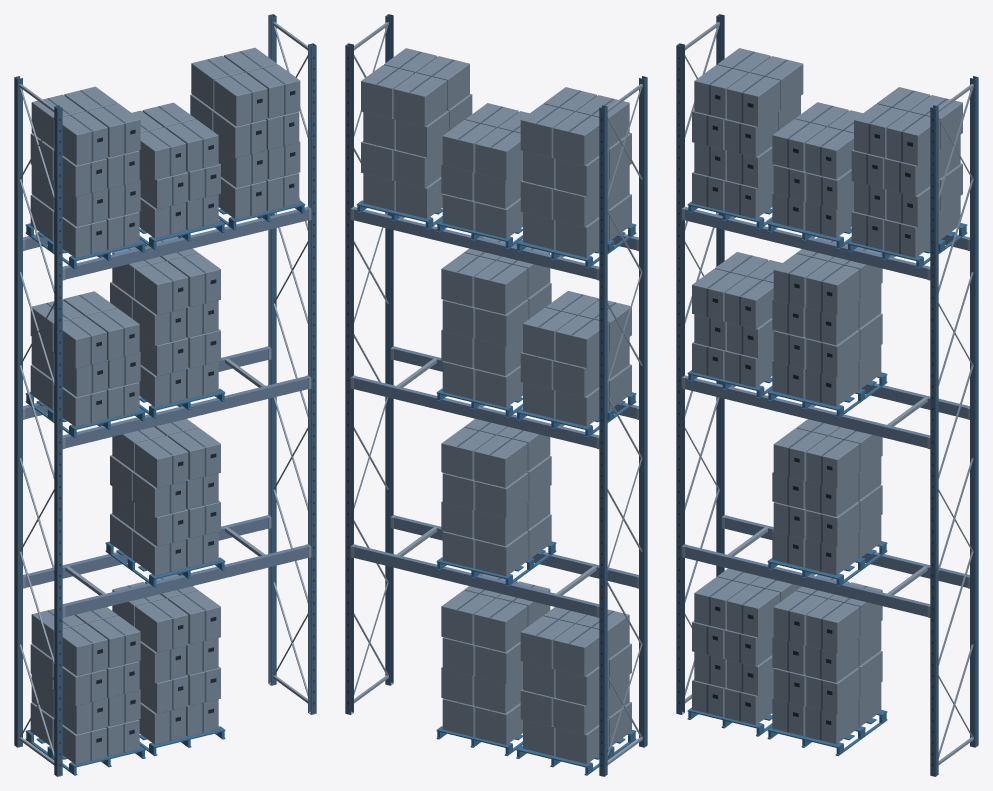
The model's file is SM_GHS_V2Rack_A_W37138_Occ70.fbx.
3 renders of one model, left to right at view 1: azimuth 30°, elevation 25°; view 2: azimuth 150°, elevation 25°; view 3: azimuth 330°, elevation 25°, orthographic.
Parts seen in each view (by area): view 1: SM_GHS_V2Rack_A_W37138_Occ70; view 2: SM_GHS_V2Rack_A_W37138_Occ70; view 3: SM_GHS_V2Rack_A_W37138_Occ70.
Boxes of the visible parts, x1,y1,x2,y2 form: SM_GHS_V2Rack_A_W37138_Occ70: (14, 14, 316, 776); SM_GHS_V2Rack_A_W37138_Occ70: (345, 14, 647, 776); SM_GHS_V2Rack_A_W37138_Occ70: (676, 14, 978, 776).
Size of the model in its own units: 371 by 122 by 915.
